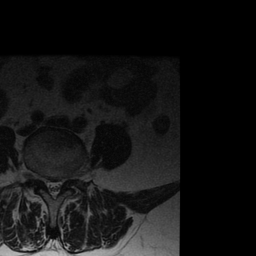CCS_normal: (51, 174, 56, 205)
LFS_severe_stenosis: (63, 168, 70, 190)
LLS_stenosis: (56, 176, 62, 195)
RFS_stenosis: (37, 169, 45, 188)
RLS_stenosis: (45, 174, 51, 195)
